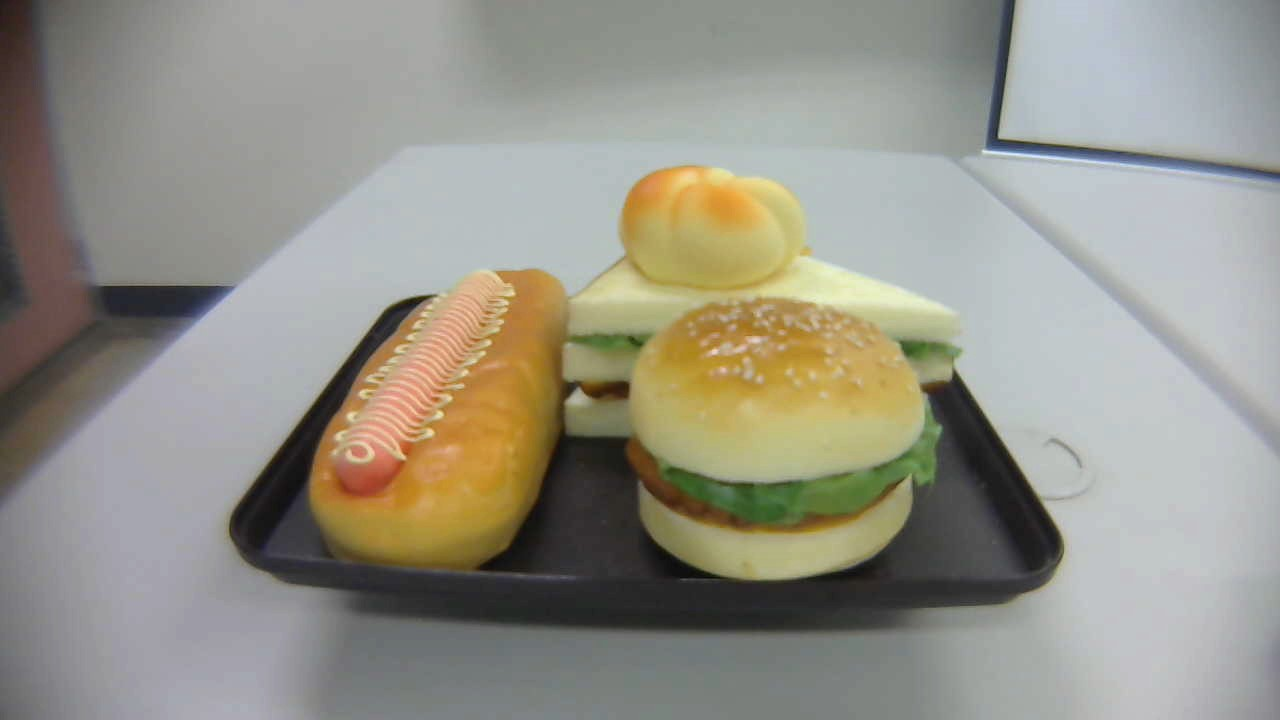hamburger: (625, 297, 943, 583)
hot dog: (307, 270, 569, 574)
sandwich: (561, 218, 963, 439)
twist bread: (620, 164, 813, 289)
